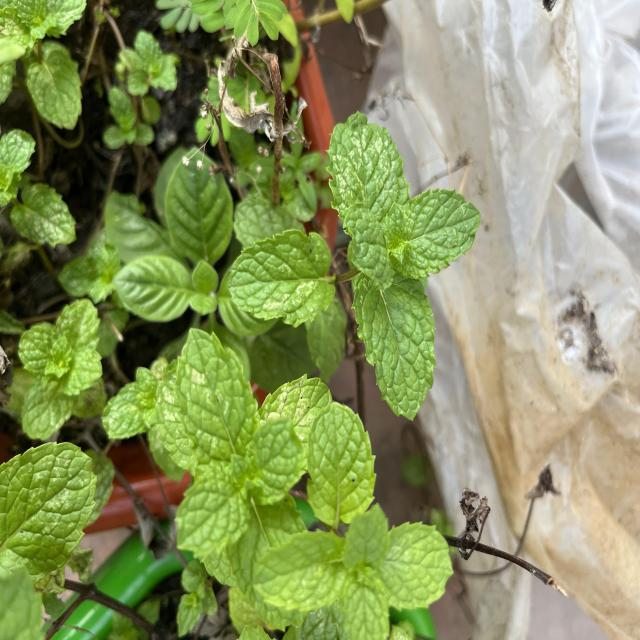Mentha spicata: (350, 267, 437, 424), (172, 326, 264, 459), (225, 226, 335, 328), (324, 110, 412, 228), (304, 399, 378, 525), (397, 186, 482, 282)
